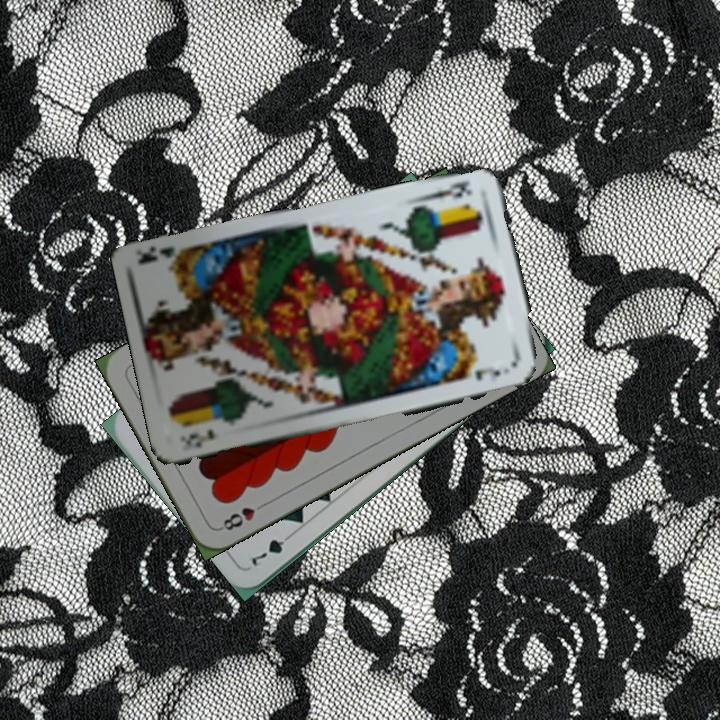EK: (420, 177, 474, 204), (176, 424, 219, 451)
G7: (247, 527, 298, 569)
H8: (215, 498, 270, 534)
